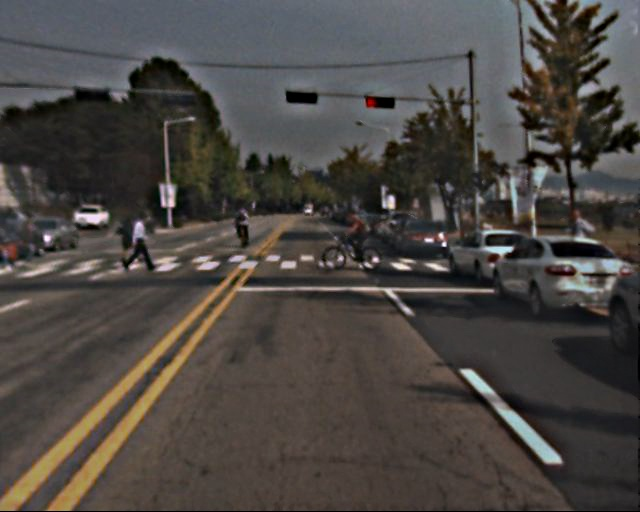person: (1, 215, 39, 267), (130, 213, 154, 272), (347, 209, 373, 262), (119, 219, 139, 267), (234, 206, 252, 250)
